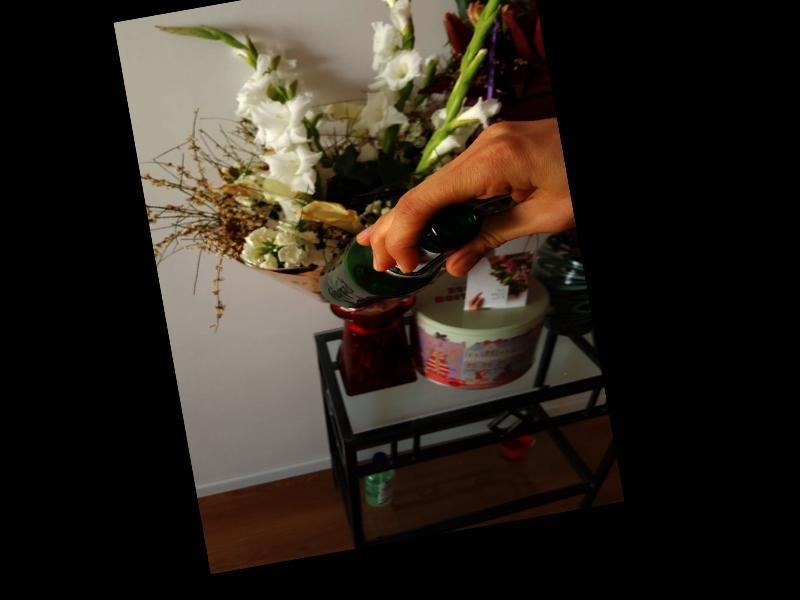Beer: (309, 201, 492, 315)
